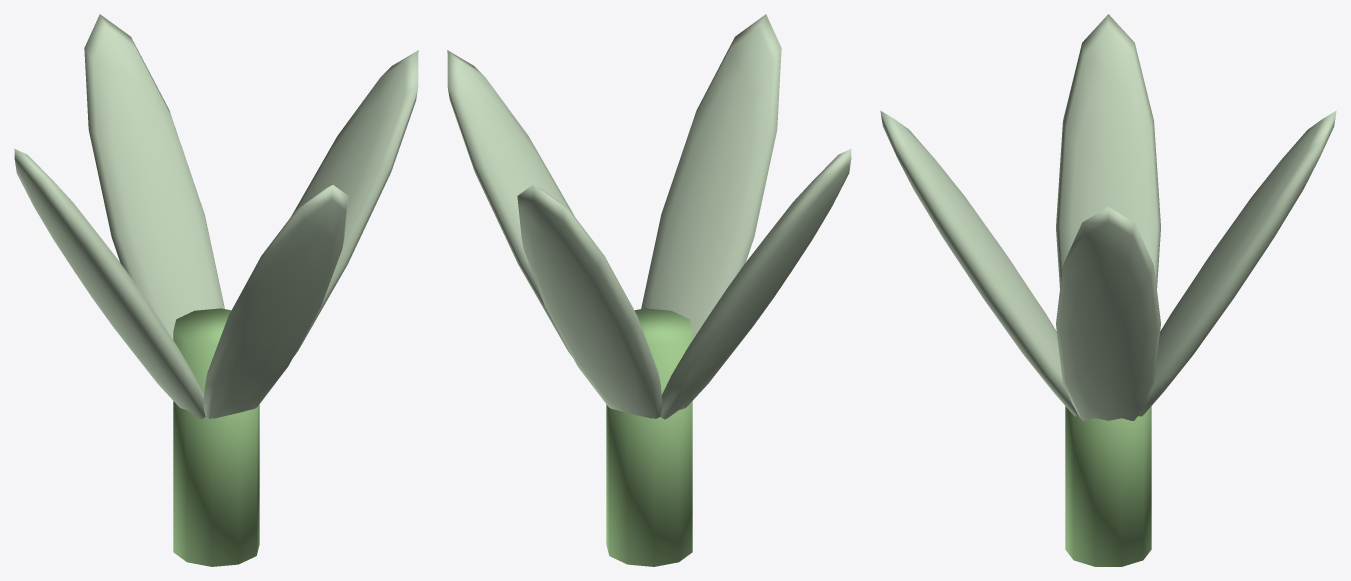
The model's file is VCrop_Lavender_2.fbx.
3 views of the same model, side by side, from view 1: azimuth 30°, elevation 25°; view 2: azimuth 150°, elevation 25°; view 3: azimuth 270°, elevation 25° (orthographic). The views are drawn at different scales.
Parts seen in each view (by area): view 1: VCrop_Lavender_2; view 2: VCrop_Lavender_2; view 3: VCrop_Lavender_2.
Part boxes in pixels (<box>): VCrop_Lavender_2: <box>14,14,418,566</box>; VCrop_Lavender_2: <box>447,14,851,566</box>; VCrop_Lavender_2: <box>880,14,1336,566</box>.
Size of the model in its own units: 0.0954 by 0.1013 by 0.0954.
